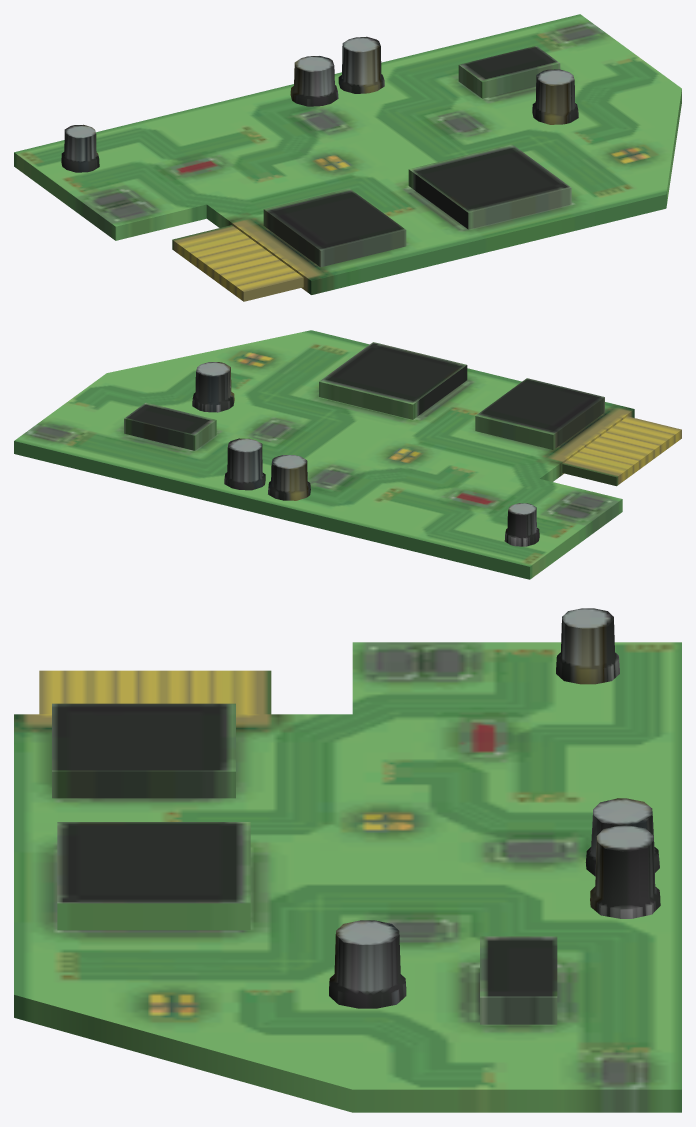
Rendered from Board_Relic.fbx.
The picture shows the model from 3 angles, top to bottom: view 1: azimuth 30°, elevation 25°; view 2: azimuth 150°, elevation 25°; view 3: azimuth 270°, elevation 25°; orthographic projection. The views are drawn at different scales.
Parts seen in each view (by area): view 1: CircuitBoard (1); view 2: CircuitBoard (1); view 3: CircuitBoard (1).
Boxes of the visible parts, x1=… form: CircuitBoard (1): x1=14, y1=14, x2=681, y2=301; CircuitBoard (1): x1=14, y1=330, x2=681, y2=579; CircuitBoard (1): x1=14, y1=608, x2=681, y2=1112.
Bounding box in the file's own units: 1.32 × 0.1205 × 0.8317.
